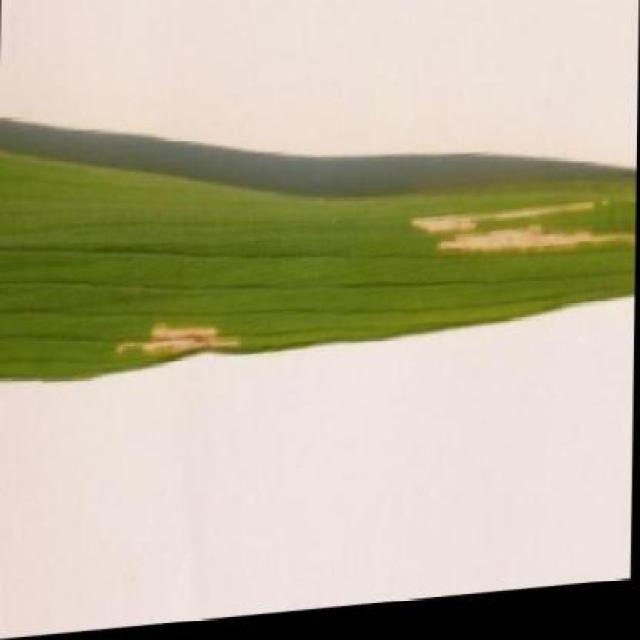Brown_Spot: (0, 99, 638, 390)
